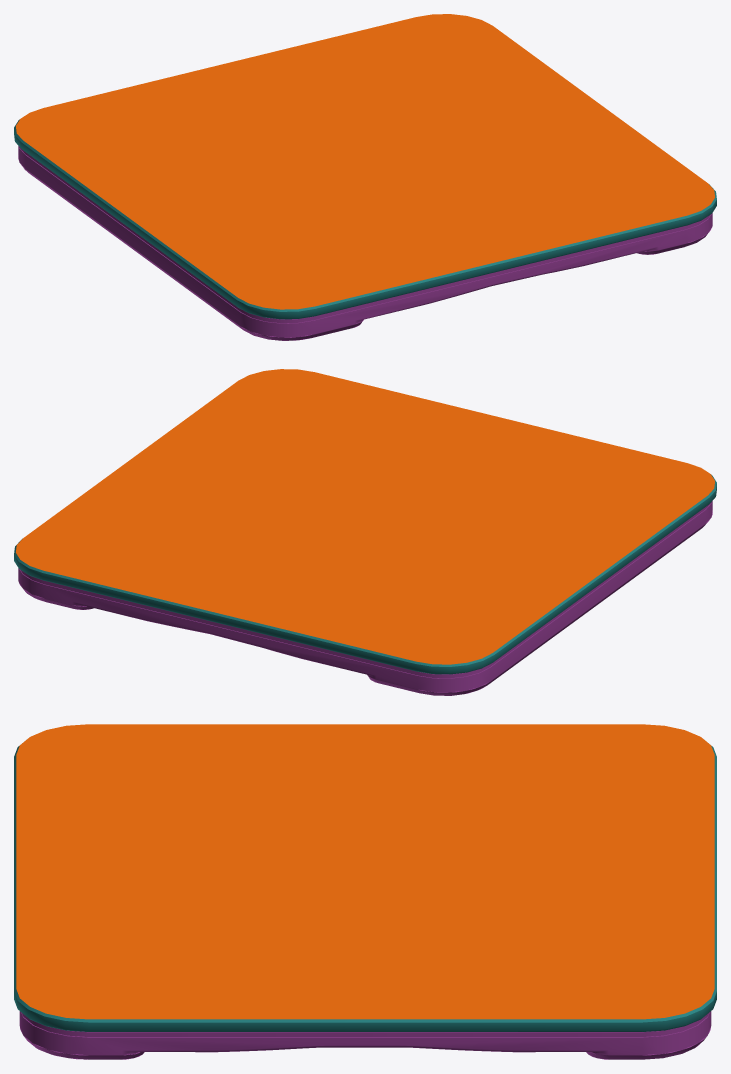
3 renders of one model, top to bottom at view 1: azimuth 30°, elevation 25°; view 2: azimuth 150°, elevation 25°; view 3: azimuth 270°, elevation 25°, orthographic. The views are drawn at different scales.
Visible parts, largest first — view 1: 300; view 2: 300; view 3: 300.
Boxes of the visible parts, <box> form: 300: <box>14,14,716,340</box>; 300: <box>14,369,716,695</box>; 300: <box>14,724,716,1059</box>.
Bounding box in the file's own units: 30.2 × 2.51 × 30.2.
